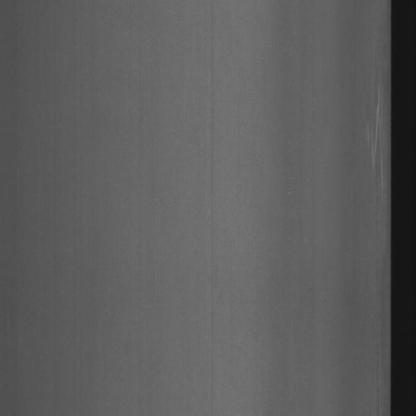silk_spot: (362, 37, 390, 274)
